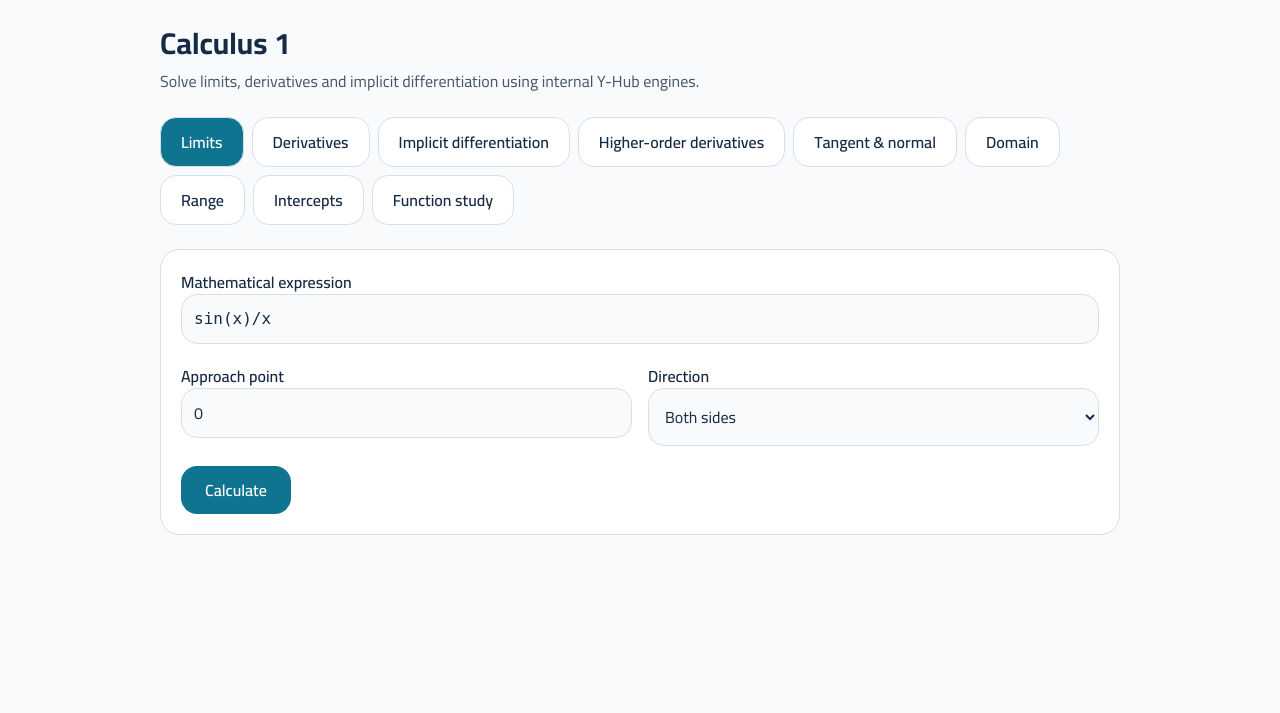
Scenario: Calculus 1 exact domain UI › shows the verified irrational domain
Click the tab "Domain" at coordinates (1012, 142), box [965,117,1060,167]
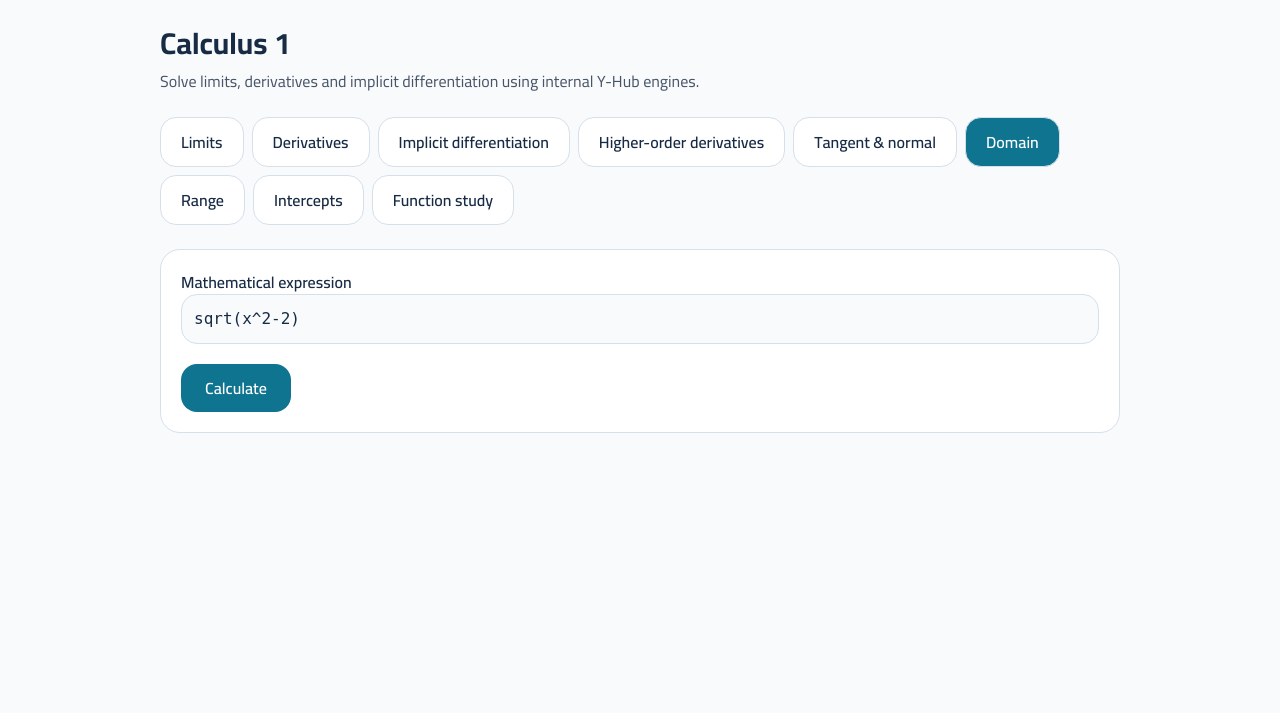
Click the button "Calculate" at coordinates (236, 388), box [181,364,291,412]
(page scrolled)
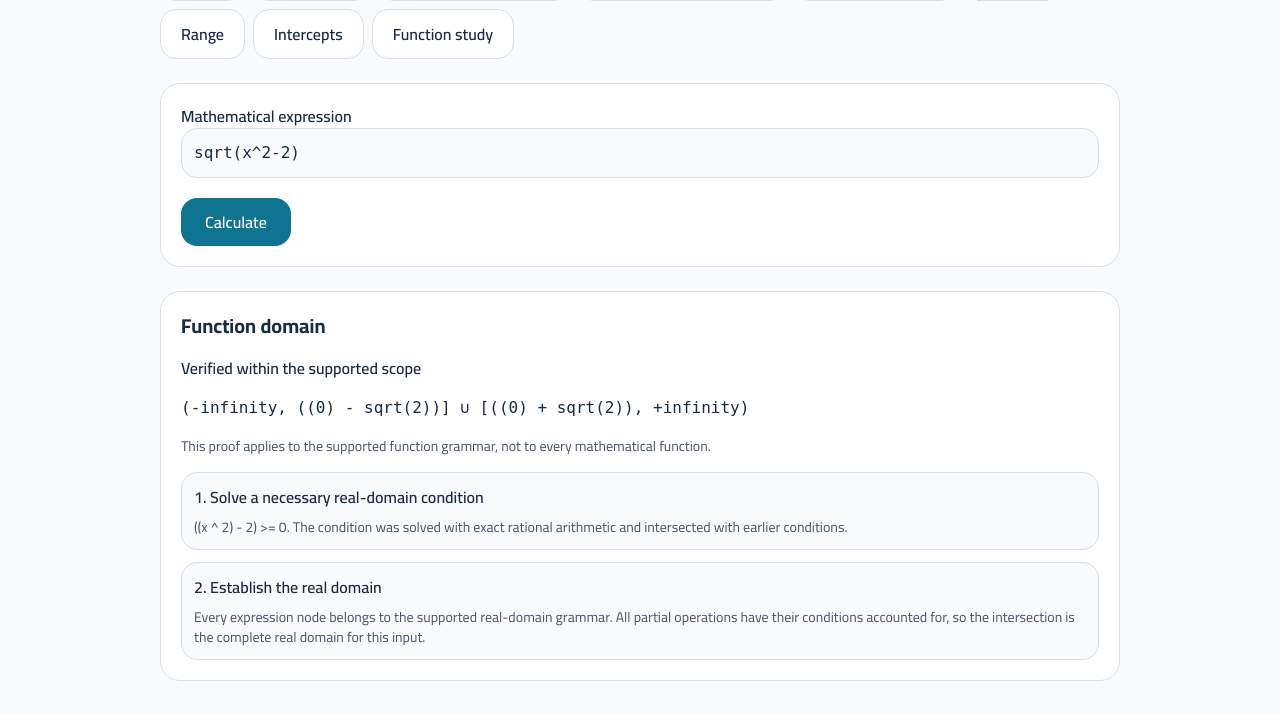
expect the element named "Verified real domain" is shown: met, box [160,291,1120,681]
expect the text with test id "exact-domain-result" shows "sqrt(2)": met, box [181,398,749,417]
expect the text with test id "exact-domain-result" shows "∪": met, box [181,398,749,417]
